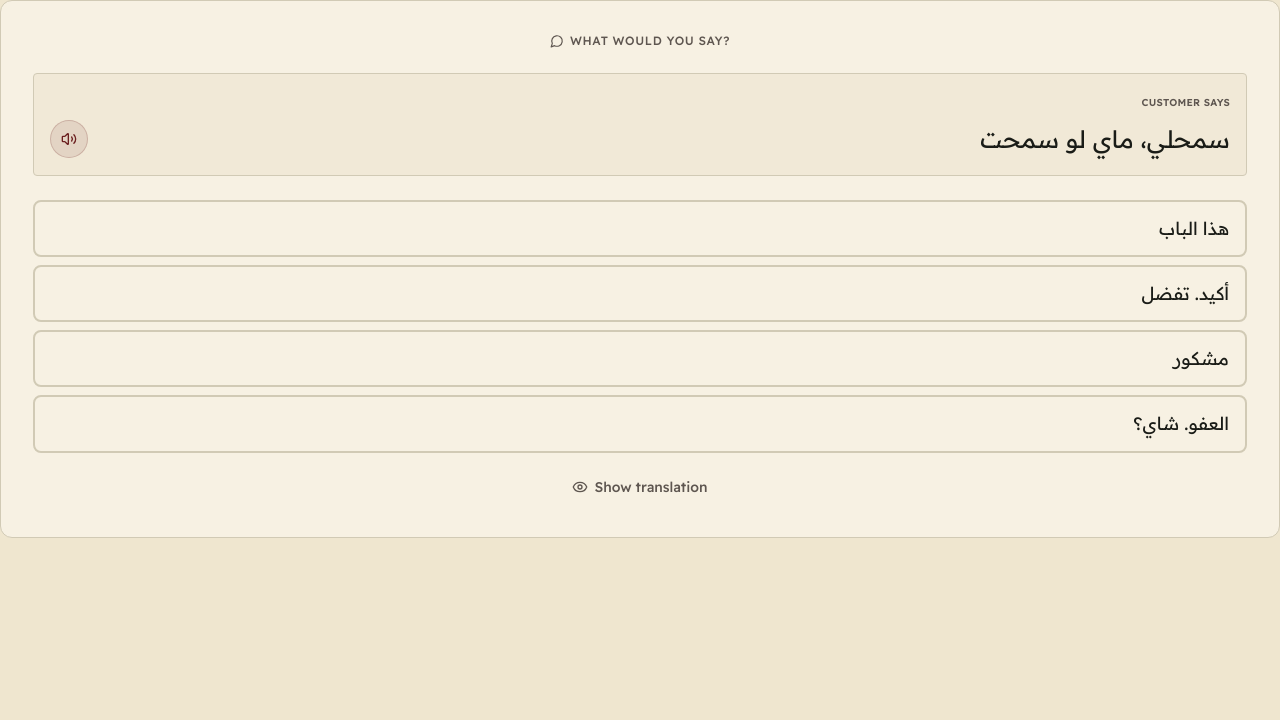
Scenario: answer the line › says the line, names who said it, and keeps the translation behind a tap
The width and height of the screenshot is (1280, 720).
Expected: the text "سمحلي، ماي لو سمحت" is shown, [980,120,1230,159]
Expected: the text "Customer says" is shown, [1142,96,1230,109]
What coordinates should you click on to do the following:
click the button "Show translation"
I would click on:
 (640, 487)
Its box is [560,469,720,505].
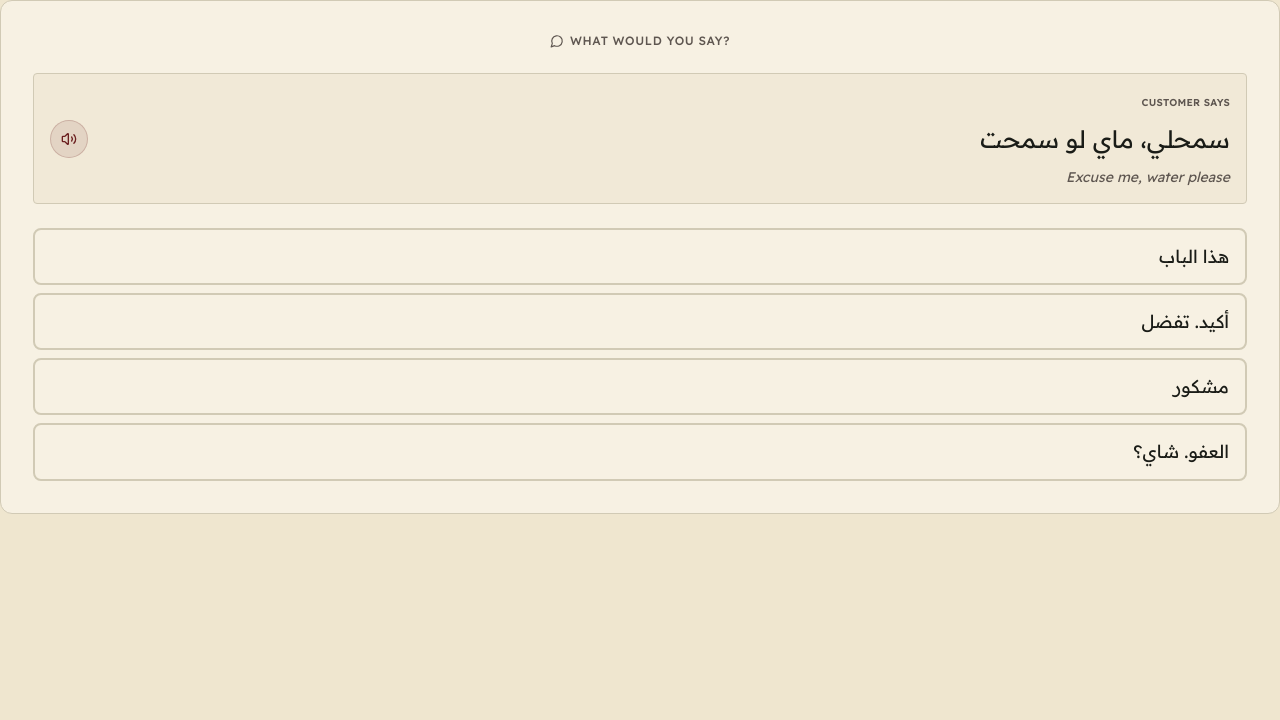
Expected: the text "Excuse me, water please" is shown, [1066,168,1230,186]
What coordinates should you click on to do the following:
click the radio button labelled "أكيد. تفضل"
I would click on:
 (1185, 321)
Its box is [33,293,1247,350].
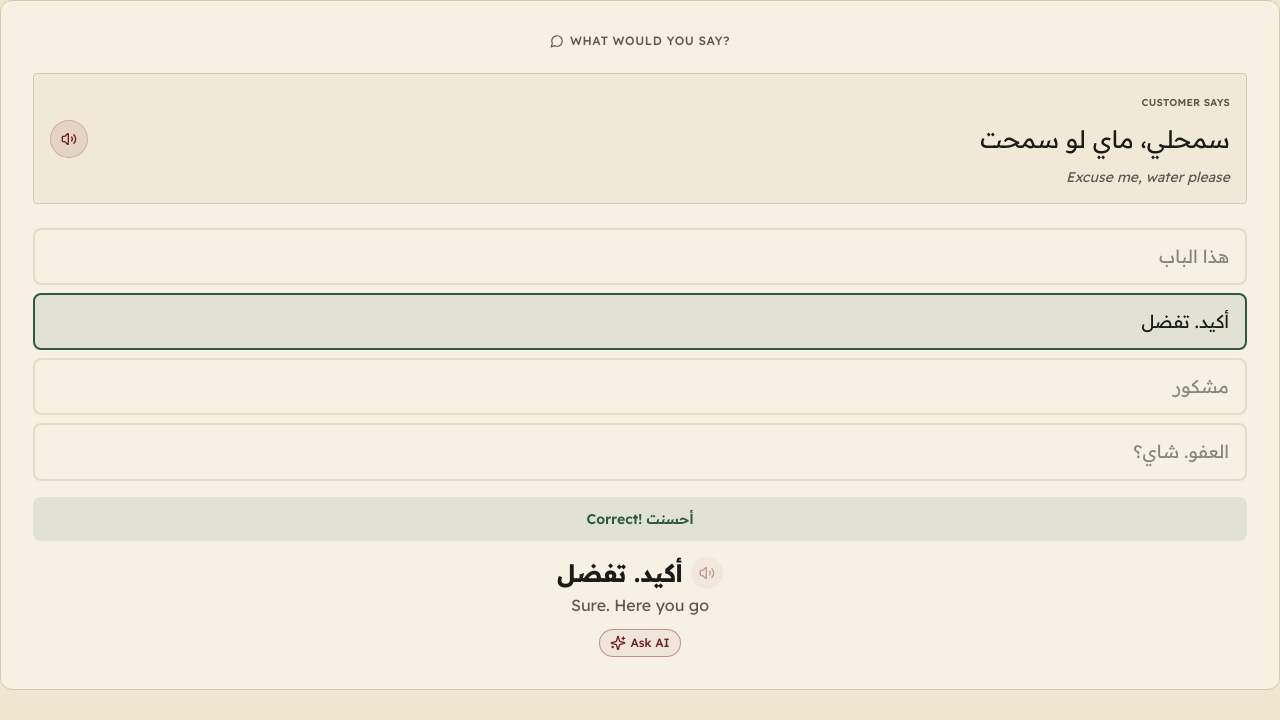
Expected: the text "Sure. Here you go" is shown, [571,595,709,615]
